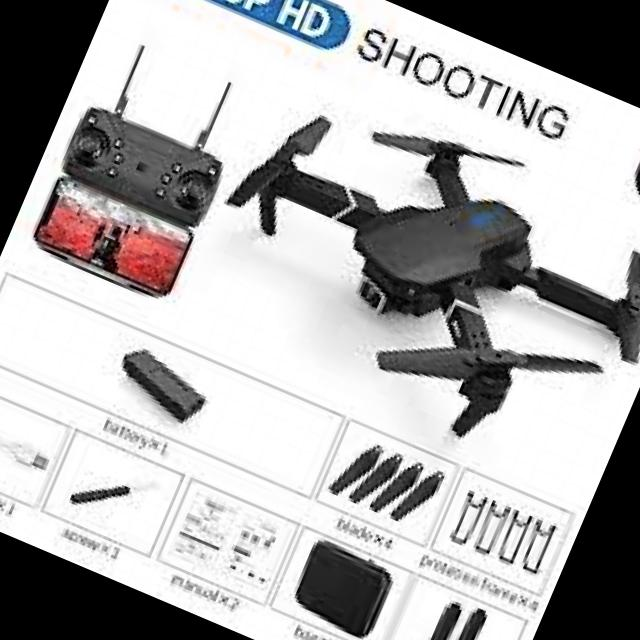drone: (166, 54, 640, 500)
